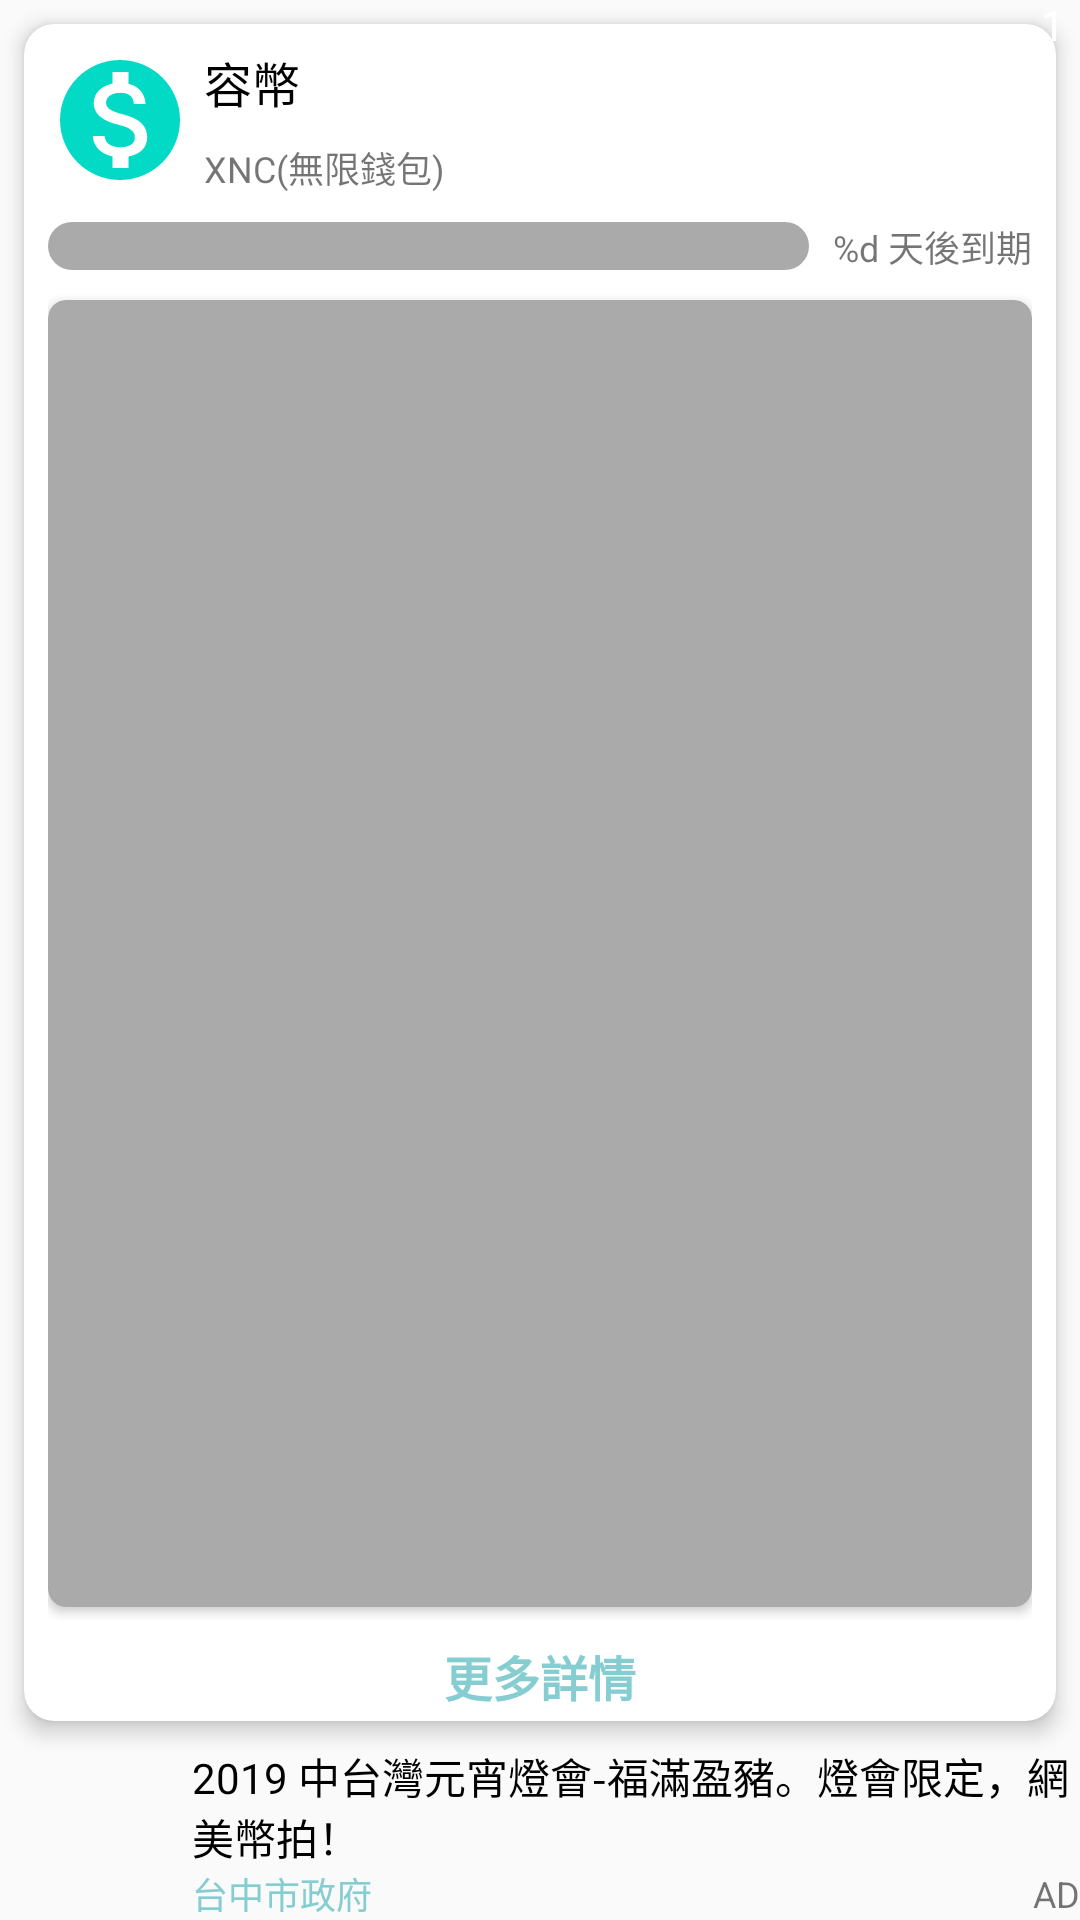

Icon bounding boxes for this 1080×1920 phone screenshot, format (x1, y1, x2, y2):
money: (60, 60, 180, 180)
